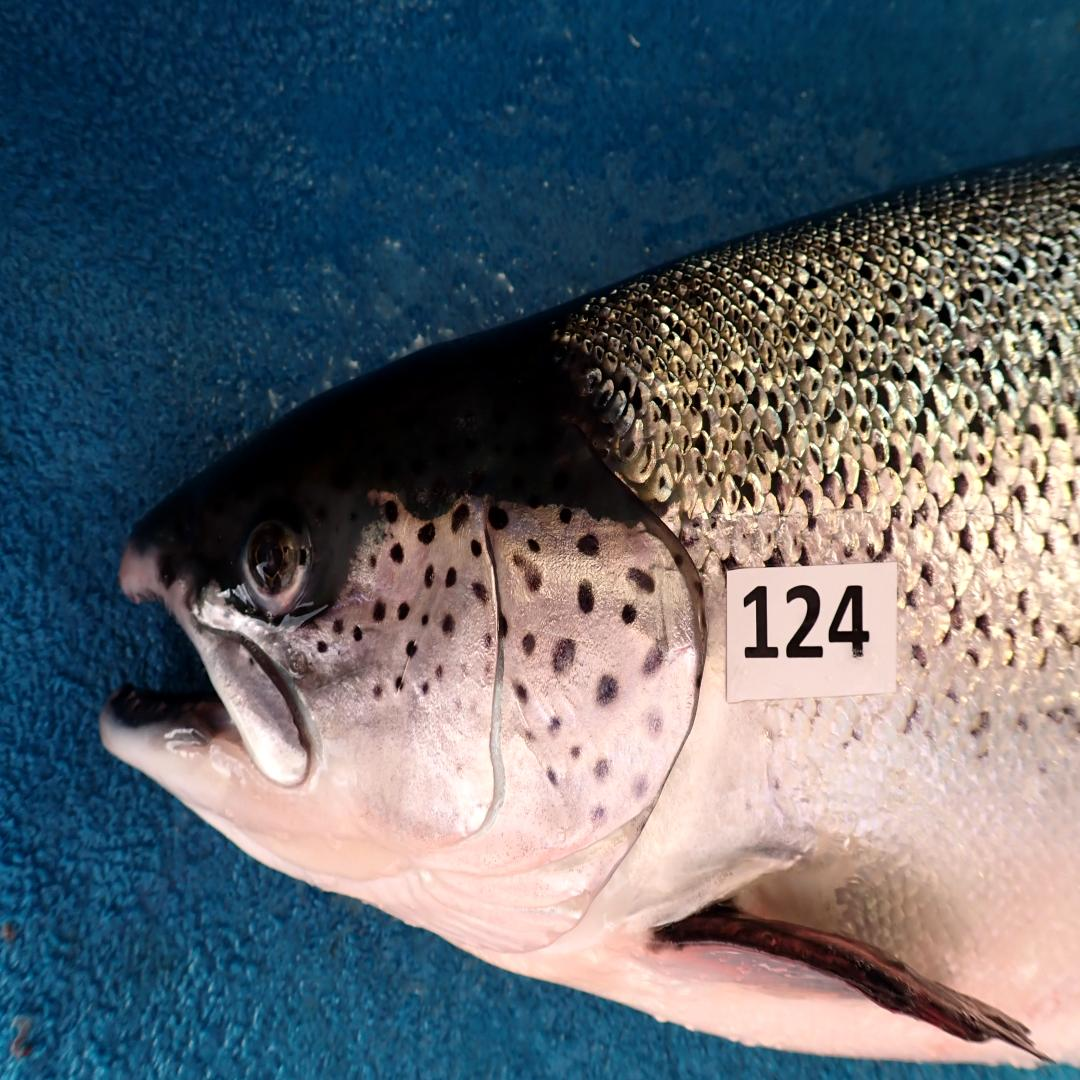roi: (304, 495, 704, 960)
